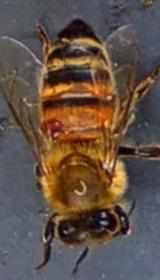varroa_mite: (36, 106, 66, 145)
